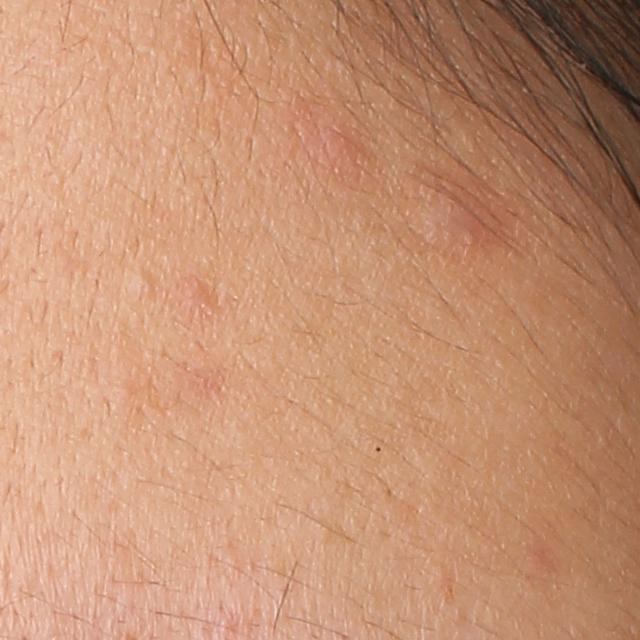comedo: (128, 267, 156, 298)
